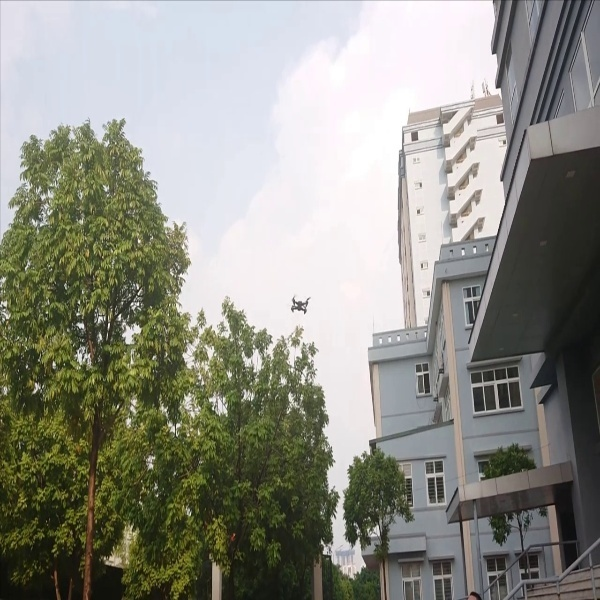drone: (281, 287, 318, 319)
